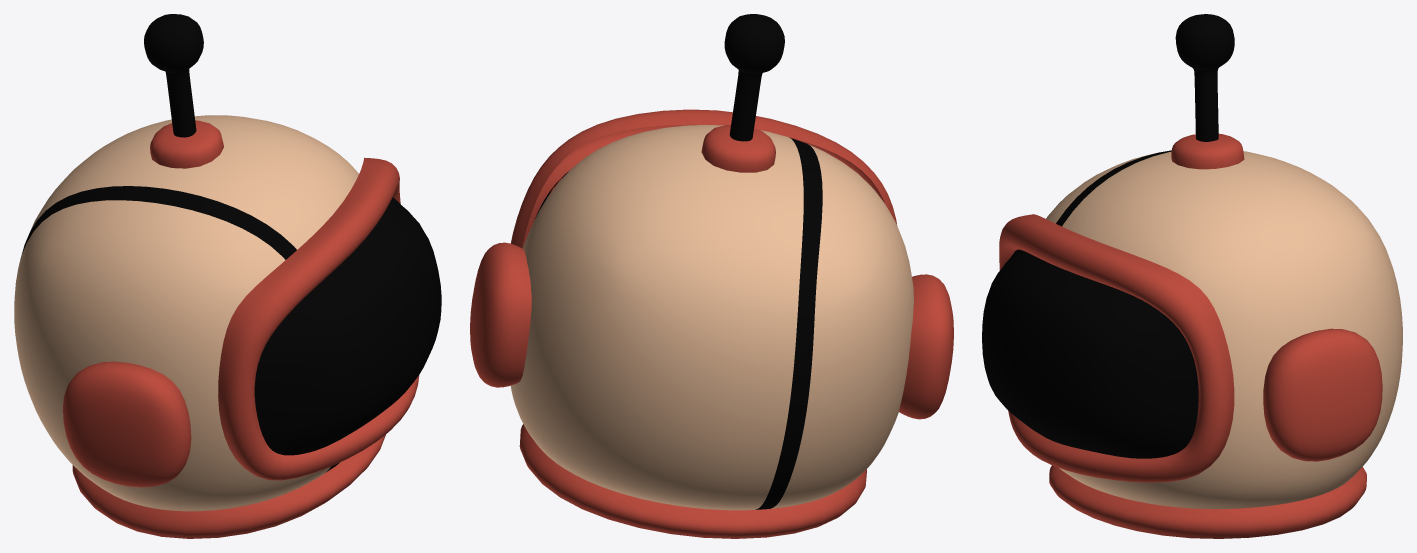
3 views of the same model, side by side, from view 1: azimuth 30°, elevation 25°; view 2: azimuth 150°, elevation 25°; view 3: azimuth 270°, elevation 25° (orthographic). The views are drawn at different scales.
Visible parts, largest first — view 1: A_C_02, A_C_02.001; view 2: A_C_02.001, A_C_02; view 3: A_C_02, A_C_02.001.
Boxes of the visible parts, left/top/right/bottom form: A_C_02: left=63, top=14, right=441, bottom=538; A_C_02.001: left=14, top=115, right=358, bottom=511; A_C_02.001: left=510, top=124, right=913, bottom=510; A_C_02: left=470, top=14, right=953, bottom=538; A_C_02: left=982, top=14, right=1382, bottom=538; A_C_02.001: left=1046, top=150, right=1402, bottom=508.
Size of the model in its own units: 2.66 by 3.13 by 2.56.
